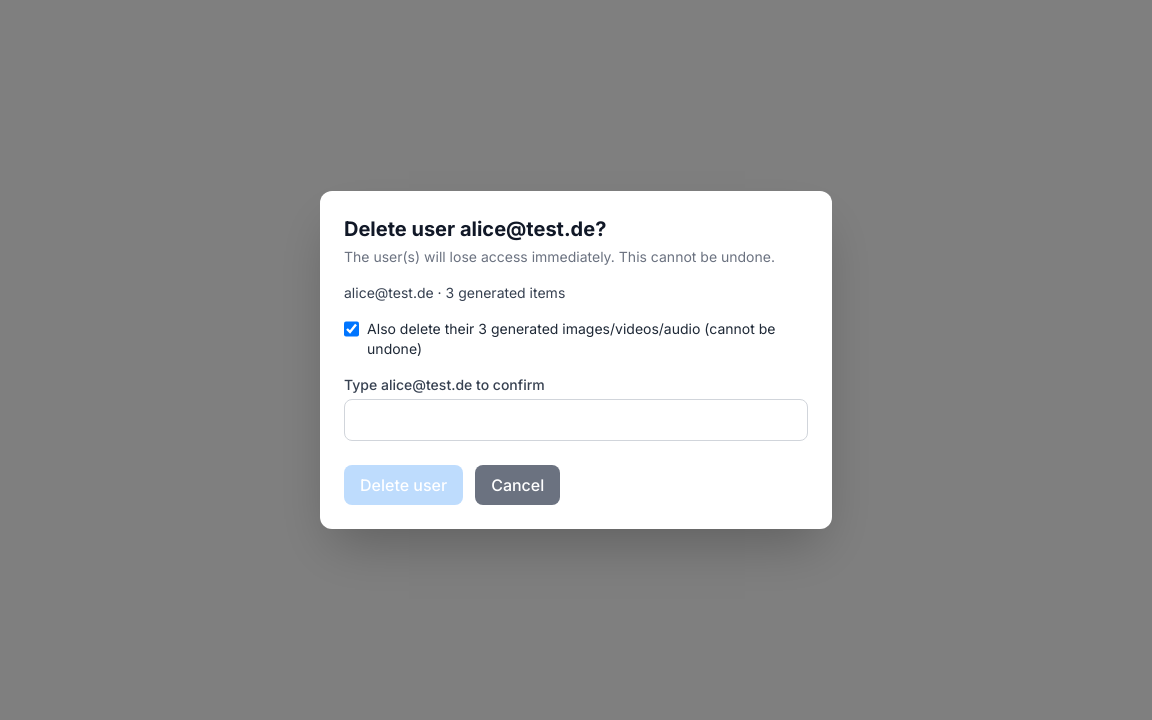
Test: DeleteUsersModal (single) › shows the backend detail on error
This screenshot has width=1152, height=720.
Type "alice@test.de" into the field named "Type alice" at (576, 420), box [344,399,808,441]
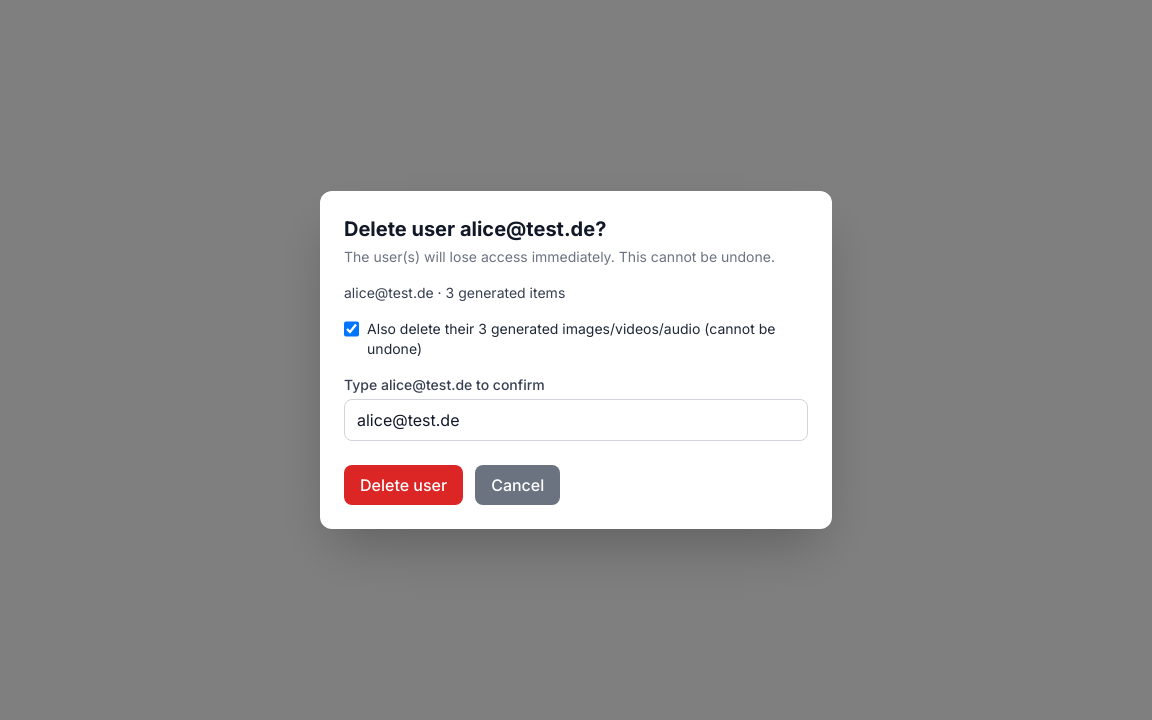
Click the button "Delete user" at (404, 485), box [344,465,463,505]
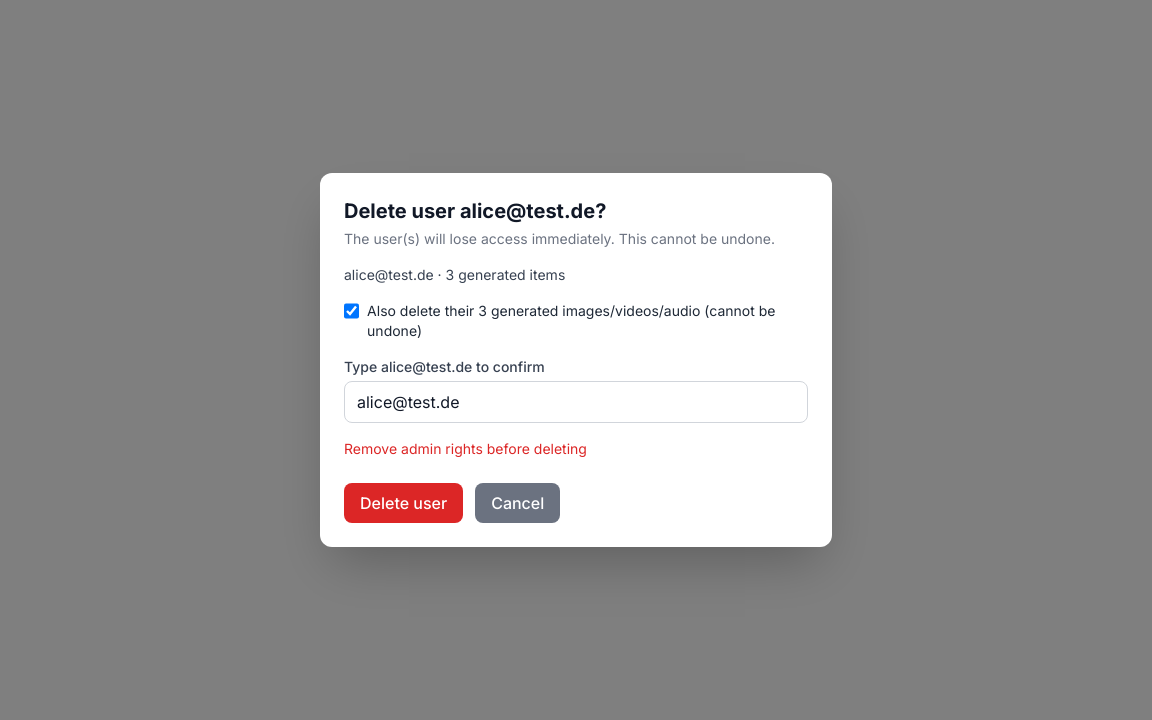
Expected: the text "Remove admin rights before deleting" is shown, [344,440,587,457]
